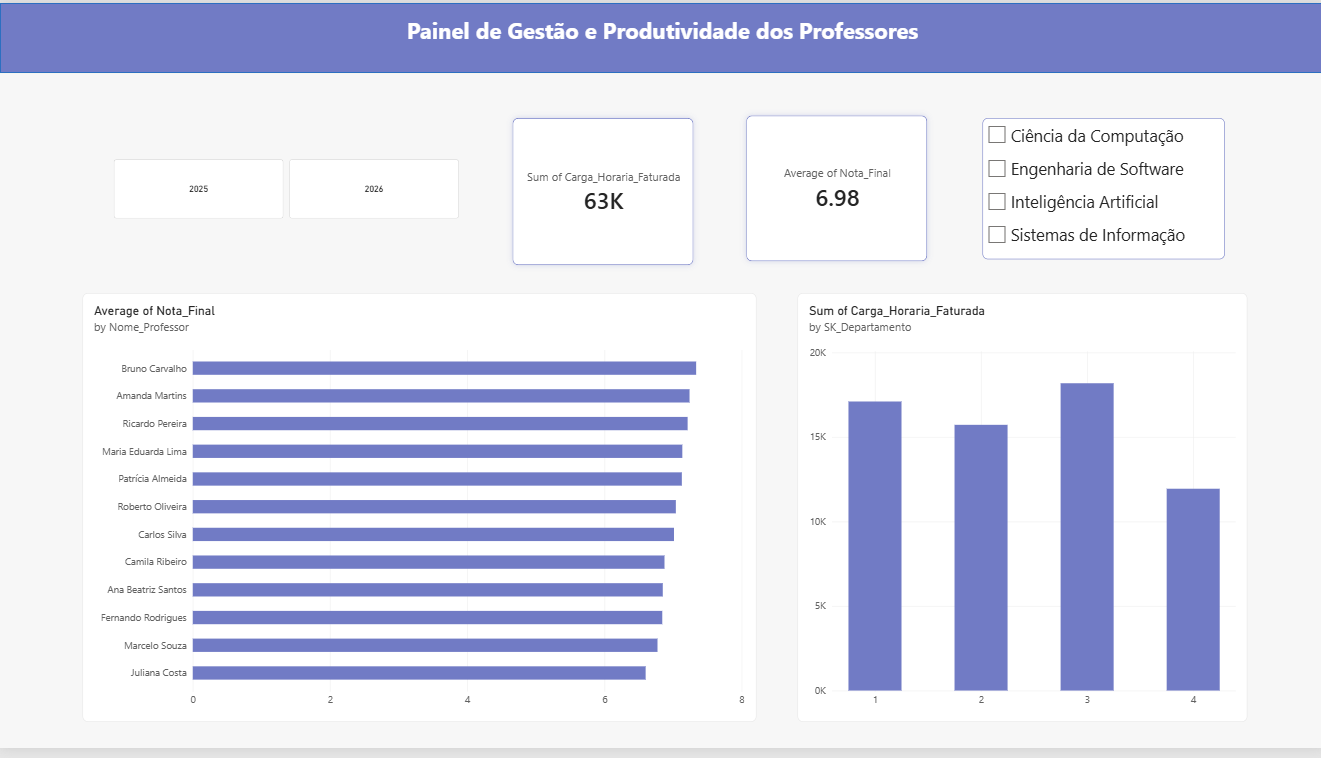

What the dashboard file says about the page in this screenshot:
{"tool":"powerbi","page":{"name":"Page 1","canvas":[1920,1080],"ordinal":0},"visuals":[{"type":"advancedSlicerVisual","fields":{"Values":["Dim_Data.Ano"]},"box":[164.9,226.5,500,87],"z":0},{"type":"slicer","fields":{"Values":["Dim_Departamento.Nome_Departamento"]},"box":[1424,166.7,351.5,204.7],"z":1},{"type":"cardVisual","fields":{"Data":["Sum(Fato_Oferta_Academica.Carga_Horaria_Faturada)"]},"box":[731.9,155.8,284.3,235.5],"z":2},{"type":"cardVisual","fields":{"Data":["Avg(Fato_Oferta_Academica.Nota_Final)"]},"box":[1070.7,152.2,284.3,233.7],"z":3},{"type":"barChart","fields":{"Category":["Dim_Professor.Nome_Professor"],"Y":["Avg(Fato_Oferta_Academica.Nota_Final)"]},"box":[119.6,420.3,976.5,621.4],"z":4},{"type":"clusteredColumnChart","fields":{"Category":["Dim_Departamento.SK_Departamento"],"Y":["Sum(Fato_Oferta_Academica.Carga_Horaria_Faturada)"]},"box":[1155.8,420.3,652.2,621.4],"z":5},{"type":"shape","box":[0,0,1920.4,101.5],"z":6},{"type":"textbox","box":[0,18.1,1920.4,83.3],"z":7}]}

Visuals, with their boxes in screenshot pixels (x1, y1, x2, y2), scaled from the page's 1920x1080 canvas onto the 1321x758 screenshot:
advancedSlicerVisual - Dim_Data.Ano: 113,159,457,220
slicer - Dim_Departamento.Nome_Departamento: 980,117,1222,261
cardVisual - Sum(Fato_Oferta_Academica.Carga_Horaria_Faturada): 504,109,699,275
cardVisual - Avg(Fato_Oferta_Academica.Nota_Final): 737,107,932,271
barChart - Dim_Professor.Nome_Professor x Avg(Fato_Oferta_Academica.Nota_Final): 82,295,754,731
clusteredColumnChart - Dim_Departamento.SK_Departamento x Sum(Fato_Oferta_Academica.Carga_Horaria_Faturada): 795,295,1244,731
shape: 0,0,1320,71
textbox: 0,13,1320,71
